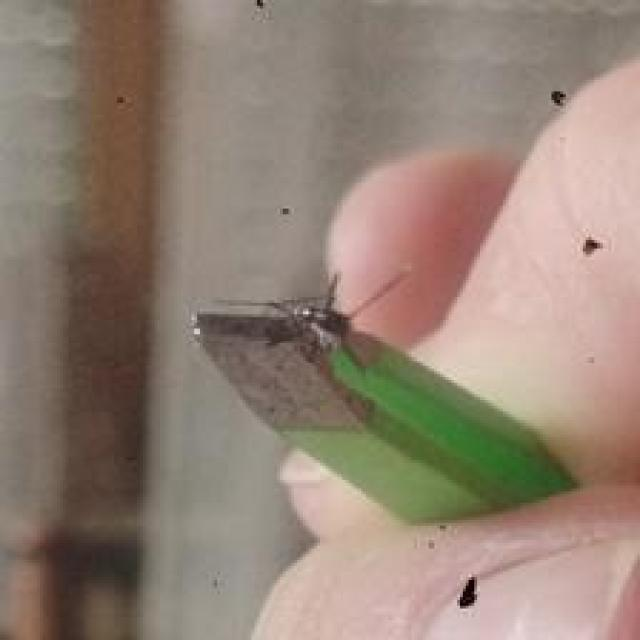Aedes albopictus: (189, 262, 580, 527)
